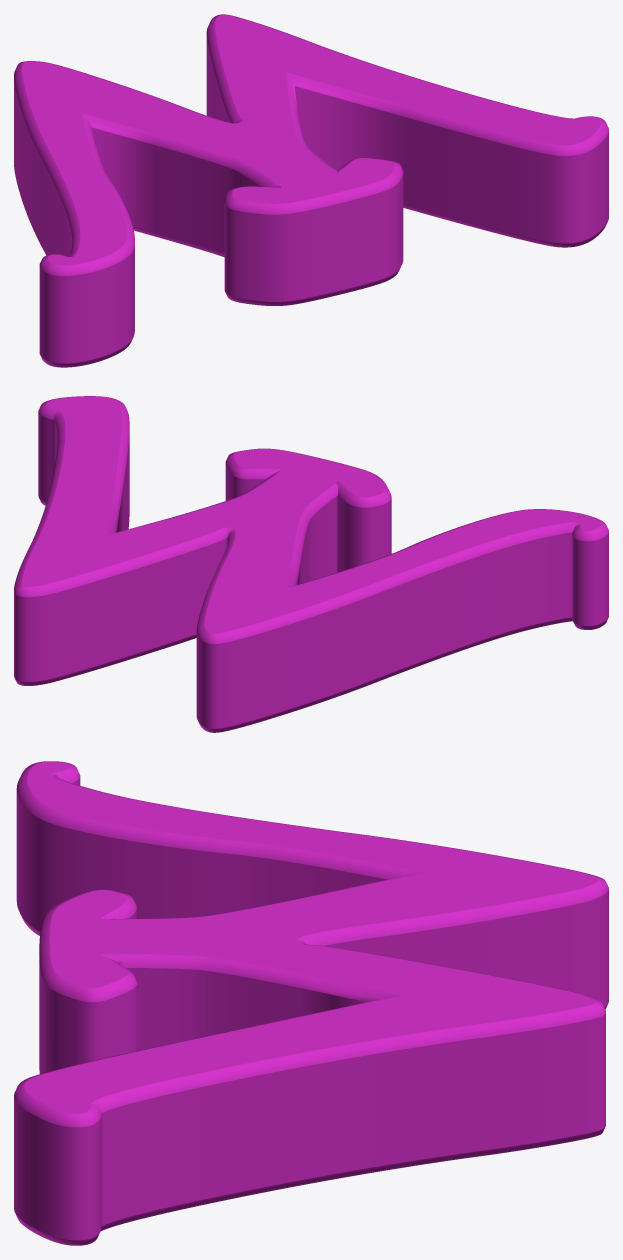
File: Letter_W.fbx
3 views of the same model, one above another, from view 1: azimuth 30°, elevation 25°; view 2: azimuth 150°, elevation 25°; view 3: azimuth 270°, elevation 25° (orthographic). The views are drawn at different scales.
Parts seen in each view (by area): view 1: Letter_W; view 2: Letter_W; view 3: Letter_W.
Boxes of the visible parts, bbox=[...] form: Letter_W: bbox=[14, 14, 608, 367]; Letter_W: bbox=[14, 396, 608, 732]; Letter_W: bbox=[14, 761, 608, 1245].
Bounding box in the file's own units: 0.8221 × 0.14 × 0.5727.
